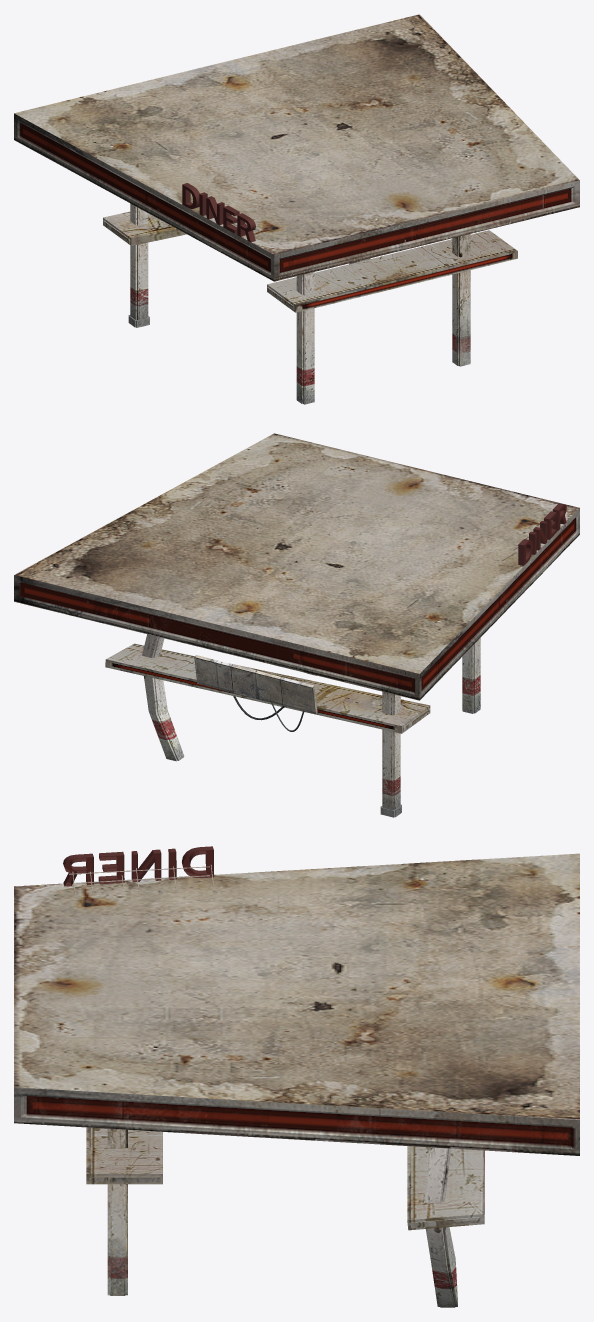
The model's file is GasStation.FBX.
3 views of the same model, one above another, from view 1: azimuth 30°, elevation 25°; view 2: azimuth 150°, elevation 25°; view 3: azimuth 270°, elevation 25° (orthographic). The views are drawn at different scales.
Visible parts, largest first — view 1: GasStation; view 2: GasStation; view 3: GasStation.
Boxes of the visible parts, box(x1,y1,x2,y2) form: GasStation: box(14, 14, 579, 404); GasStation: box(14, 433, 579, 817); GasStation: box(14, 846, 579, 1307).
Bounding box in the file's own units: 1065 × 537 × 956.
